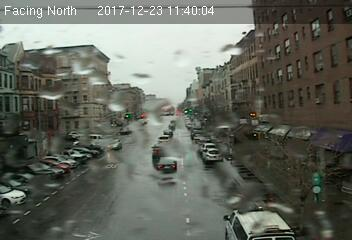car: (155, 155, 177, 174), (204, 148, 223, 163), (151, 143, 167, 155)
police: (222, 208, 293, 240)
